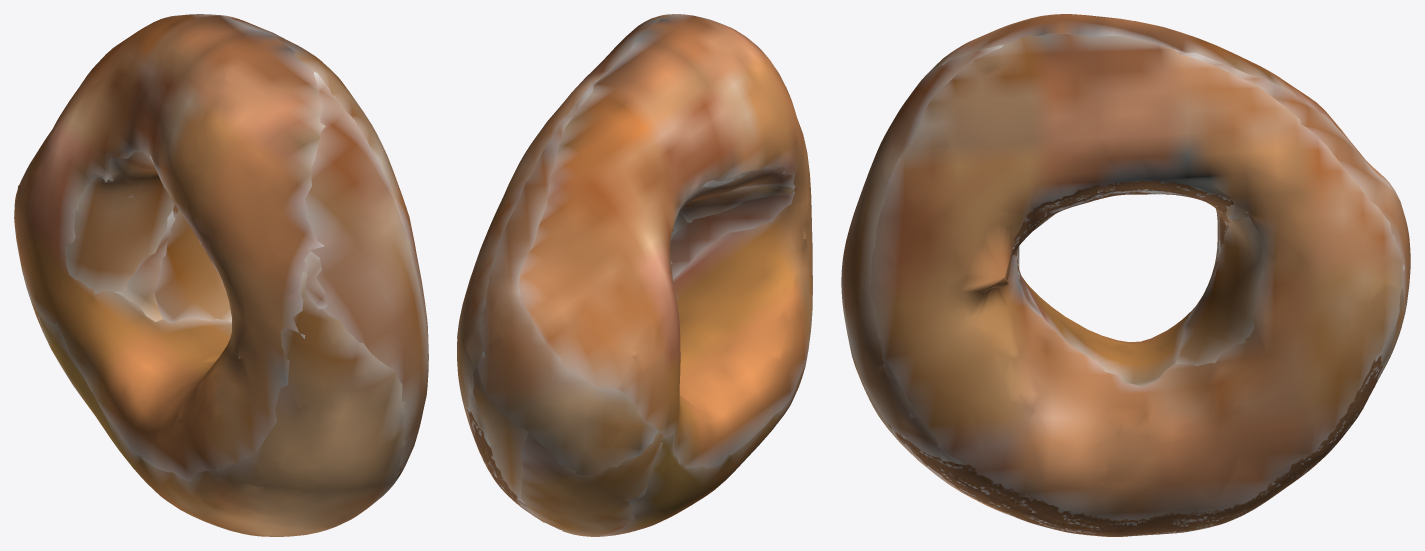
Rendered from item-cheerioat.glb.
3 renders of one model, left to right at view 1: azimuth 30°, elevation 25°; view 2: azimuth 150°, elevation 25°; view 3: azimuth 270°, elevation 25°, orthographic. The views are drawn at different scales.
Size of the model in its own units: 23.37 by 50.59 by 52.74.
1 material, 1 textured.
